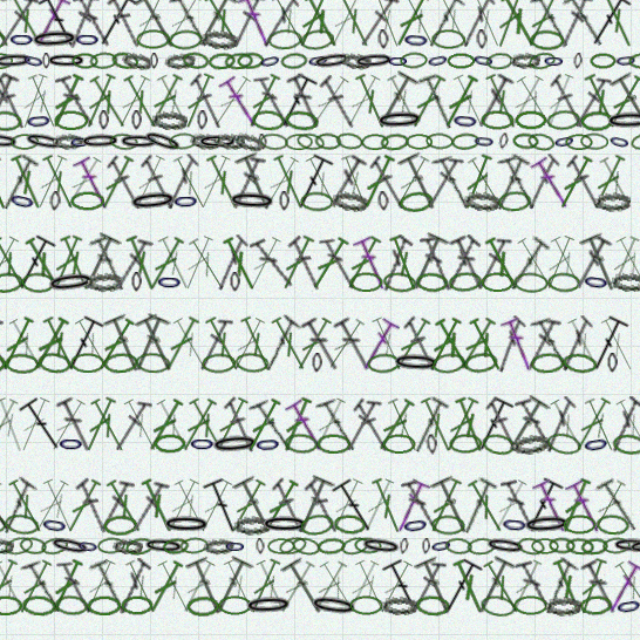chain: (75, 263, 118, 285), (299, 539, 342, 561), (145, 194, 188, 215), (156, 142, 193, 166), (215, 402, 258, 422), (61, 57, 104, 76), (481, 471, 524, 490), (356, 126, 398, 145), (230, 195, 272, 214), (370, 333, 412, 352), (244, 540, 286, 559), (552, 127, 594, 145), (55, 144, 92, 164), (77, 489, 114, 509), (501, 400, 533, 423), (472, 401, 505, 423), (174, 472, 216, 489), (258, 472, 300, 489), (445, 539, 477, 561), (318, 194, 351, 215), (571, 489, 607, 508), (446, 401, 476, 423), (67, 332, 98, 353), (431, 332, 462, 353), (39, 470, 70, 491), (291, 470, 322, 491), (302, 76, 338, 94), (343, 490, 379, 508), (449, 490, 485, 508), (291, 57, 322, 77), (515, 333, 546, 353), (17, 145, 53, 162), (207, 57, 239, 76), (431, 195, 463, 214), (109, 264, 141, 283), (278, 126, 308, 146), (376, 195, 406, 215), (26, 264, 56, 284), (362, 264, 392, 284), (404, 333, 434, 353), (558, 402, 588, 422), (151, 333, 182, 352), (337, 77, 373, 93), (12, 57, 42, 76), (264, 57, 294, 76), (250, 126, 280, 145), (502, 126, 532, 145), (460, 195, 490, 214), (418, 264, 448, 283), (124, 333, 154, 352), (236, 333, 266, 352), (488, 333, 518, 352), (278, 402, 308, 421), (54, 540, 84, 559), (82, 540, 112, 559), (390, 540, 420, 559), (30, 77, 65, 93), (234, 144, 262, 164), (158, 491, 193, 507), (543, 196, 574, 214), (235, 472, 266, 490), (501, 541, 532, 559), (320, 471, 349, 490), (544, 471, 573, 490), (530, 540, 559, 559), (583, 143, 609, 164), (42, 194, 68, 215), (474, 265, 504, 283), (165, 127, 196, 144), (557, 265, 588, 282), (361, 541, 392, 558), (104, 146, 139, 161), (558, 491, 593, 506), (180, 58, 209, 76), (488, 58, 517, 76), (26, 127, 55, 145), (292, 196, 321, 214), (54, 265, 83, 283), (390, 265, 419, 283), (40, 334, 69, 352), (208, 334, 237, 352), (124, 472, 153, 490), (404, 472, 433, 490), (139, 76, 167, 94), (531, 127, 559, 145), (503, 265, 531, 283), (349, 334, 377, 352), (195, 541, 223, 559), (532, 402, 557, 422), (70, 471, 95, 491), (378, 471, 403, 491), (560, 540, 585, 560), (573, 144, 599, 163), (39, 489, 65, 508), (273, 489, 299, 508), (326, 489, 352, 508), (152, 58, 181, 75), (404, 58, 433, 75), (82, 127, 111, 144), (446, 127, 475, 144), (96, 196, 125, 213), (334, 265, 363, 282), (446, 265, 475, 282), (96, 334, 125, 351), (306, 403, 335, 420), (362, 403, 391, 420), (12, 472, 41, 489), (516, 472, 545, 489), (26, 541, 55, 558), (110, 541, 139, 558), (222, 541, 251, 558), (334, 541, 363, 558), (474, 541, 503, 558), (75, 78, 110, 92), (137, 147, 172, 161), (204, 147, 239, 161), (475, 127, 503, 144), (13, 334, 41, 351), (167, 403, 195, 420), (419, 403, 447, 420), (139, 541, 167, 558), (532, 264, 557, 283), (288, 145, 314, 163), (142, 490, 168, 508), (284, 490, 310, 508), (476, 490, 502, 508), (586, 490, 612, 508), (463, 471, 487, 490), (486, 76, 511, 94), (485, 145, 510, 163), (70, 490, 95, 508), (379, 58, 403, 76), (176, 77, 203, 93), (326, 77, 353, 93), (57, 127, 81, 145), (421, 127, 445, 145), (209, 491, 236, 507), (130, 76, 155, 93), (253, 403, 276, 421), (191, 76, 215, 93), (322, 145, 346, 162), (52, 490, 76, 507), (227, 77, 252, 93), (129, 146, 154, 162), (257, 146, 282, 162), (360, 146, 385, 162), (306, 491, 331, 507), (434, 491, 459, 507), (518, 491, 543, 507), (43, 58, 66, 75), (99, 58, 122, 75), (183, 196, 206, 213), (169, 265, 192, 282), (85, 403, 108, 420), (197, 403, 220, 420), (471, 77, 497, 92), (81, 146, 107, 161), (198, 146, 224, 161), (219, 146, 245, 161), (213, 77, 237, 93), (275, 77, 299, 93), (450, 77, 474, 93), (174, 491, 198, 507), (415, 491, 439, 507), (531, 491, 555, 507), (54, 76, 75, 94), (256, 76, 277, 94), (554, 145, 575, 163), (112, 77, 137, 92), (189, 491, 214, 506), (22, 492, 48, 506), (132, 492, 158, 506), (377, 77, 401, 92), (180, 146, 204, 161), (304, 146, 328, 161), (399, 146, 423, 161), (421, 146, 445, 161), (531, 146, 555, 161), (119, 491, 143, 506), (338, 491, 362, 506), (550, 491, 574, 506), (297, 76, 318, 93), (399, 76, 420, 93), (438, 76, 459, 93), (507, 145, 528, 162), (402, 490, 423, 507), (238, 77, 261, 92), (473, 146, 496, 161), (504, 491, 527, 506), (23, 78, 47, 92), (417, 78, 441, 92), (572, 78, 596, 92), (45, 147, 69, 161), (279, 147, 303, 161), (344, 147, 368, 161), (518, 147, 542, 161), (264, 492, 288, 506), (489, 492, 513, 506), (97, 78, 120, 92), (539, 78, 562, 92), (382, 147, 405, 161), (101, 491, 121, 507), (560, 77, 580, 92), (439, 146, 459, 161), (366, 78, 385, 92), (499, 78, 518, 92), (95, 147, 114, 161), (227, 492, 246, 506), (399, 403, 410, 421), (358, 58, 368, 75), (442, 58, 452, 75), (78, 196, 88, 213), (358, 196, 368, 213), (120, 127, 129, 144), (148, 127, 157, 144), (204, 127, 213, 144), (274, 196, 283, 213), (148, 265, 157, 282), (232, 265, 241, 282), (302, 334, 311, 351), (554, 334, 563, 351), (461, 146, 470, 161), (376, 492, 385, 506), (525, 78, 533, 92), (256, 147, 264, 161), (254, 492, 262, 506), (72, 78, 79, 92), (164, 78, 171, 92), (396, 492, 403, 506)
double: (463, 370, 506, 422), (9, 439, 52, 491), (275, 508, 318, 560), (198, 24, 240, 77), (352, 93, 394, 146), (51, 370, 94, 421), (150, 25, 192, 77), (534, 25, 576, 77), (556, 94, 598, 146), (318, 439, 360, 491), (234, 438, 275, 491), (114, 25, 155, 77), (375, 162, 415, 215), (213, 507, 253, 560), (437, 507, 477, 560), (464, 233, 506, 283), (67, 25, 107, 77), (45, 232, 85, 284), (409, 508, 449, 560), (101, 231, 140, 284), (381, 231, 420, 284), (151, 300, 190, 353), (403, 438, 442, 491), (389, 507, 428, 560), (296, 95, 337, 145), (310, 302, 351, 352), (248, 371, 289, 421), (543, 439, 583, 490), (53, 508, 93, 559), (269, 94, 308, 146), (283, 163, 322, 215), (87, 301, 126, 353), (535, 301, 574, 353), (437, 370, 476, 422), (479, 439, 518, 491), (361, 508, 400, 560), (4, 24, 42, 77), (236, 162, 274, 215), (530, 231, 568, 284), (124, 300, 162, 353), (144, 300, 182, 353), (284, 438, 322, 491), (194, 507, 232, 560), (109, 95, 149, 145), (473, 95, 513, 145), (193, 233, 233, 283), (353, 371, 393, 421), (395, 25, 434, 76), (515, 25, 554, 76), (31, 163, 70, 214), (305, 370, 344, 421), (213, 95, 253, 144), (207, 26, 246, 76), (221, 95, 260, 145), (87, 164, 126, 214), (431, 164, 470, 214), (487, 164, 526, 214), (297, 233, 336, 283), (115, 302, 154, 352), (423, 302, 462, 352), (157, 371, 196, 421), (123, 440, 162, 490), (297, 509, 336, 559), (305, 509, 344, 559), (445, 509, 484, 559), (557, 509, 596, 559), (40, 25, 78, 76), (180, 25, 218, 76), (264, 25, 302, 76), (460, 25, 498, 76), (488, 25, 526, 76), (326, 94, 364, 145), (368, 163, 406, 214), (18, 232, 56, 283), (326, 232, 364, 283), (60, 301, 98, 352), (180, 301, 218, 352), (256, 301, 294, 352), (264, 301, 302, 352), (488, 301, 526, 352), (194, 370, 232, 421), (382, 370, 420, 421), (522, 370, 560, 421), (32, 439, 69, 491), (208, 439, 245, 491), (172, 26, 210, 76), (550, 95, 588, 145), (256, 164, 294, 214), (312, 164, 350, 214), (54, 233, 92, 283), (158, 233, 196, 283), (474, 233, 512, 283), (40, 302, 78, 352), (96, 302, 134, 352), (284, 302, 322, 352), (292, 302, 330, 352), (340, 302, 378, 352), (368, 302, 406, 352), (404, 302, 442, 352), (74, 371, 112, 421), (186, 371, 224, 421), (278, 371, 316, 421), (60, 440, 98, 490), (256, 440, 294, 490), (432, 440, 470, 490), (270, 509, 308, 559), (312, 25, 349, 76), (368, 25, 405, 76), (376, 25, 413, 76), (158, 94, 195, 145), (166, 94, 203, 145), (362, 94, 399, 145), (180, 163, 217, 214), (404, 163, 441, 214), (452, 163, 489, 214), (460, 163, 497, 214), (502, 232, 539, 283), (558, 232, 595, 283), (12, 301, 49, 352), (172, 301, 209, 352), (208, 301, 245, 352), (214, 370, 251, 421), (424, 439, 461, 490), (494, 508, 531, 559), (249, 234, 288, 282), (111, 508, 147, 560), (12, 26, 49, 76), (292, 26, 329, 76), (138, 95, 175, 145), (382, 95, 419, 145), (410, 95, 447, 145), (466, 95, 503, 145), (508, 164, 545, 214), (544, 164, 581, 214), (26, 233, 63, 283), (522, 233, 559, 283), (320, 302, 357, 352), (110, 371, 147, 421), (138, 371, 175, 421), (166, 371, 203, 421), (242, 371, 279, 421), (502, 371, 539, 421), (558, 371, 595, 421), (40, 440, 77, 490), (88, 440, 125, 490), (228, 440, 265, 490), (452, 440, 489, 490), (536, 440, 573, 490), (158, 509, 195, 559), (186, 509, 223, 559), (354, 509, 391, 559), (550, 509, 587, 559), (405, 25, 441, 76), (75, 94, 111, 145), (419, 94, 455, 145), (531, 94, 567, 145), (167, 232, 203, 283), (271, 232, 307, 283), (69, 301, 105, 352), (83, 370, 119, 421), (411, 370, 447, 421), (173, 439, 209, 490), (313, 439, 349, 490), (397, 439, 433, 490), (139, 508, 175, 559), (335, 508, 371, 559), (391, 94, 426, 146), (111, 232, 146, 284), (61, 26, 97, 76), (131, 95, 167, 145), (439, 95, 475, 145), (97, 164, 133, 214), (117, 164, 153, 214), (293, 164, 329, 214), (223, 233, 259, 283), (243, 233, 279, 283), (447, 233, 483, 283), (229, 302, 265, 352), (397, 302, 433, 352), (433, 302, 469, 352), (517, 302, 553, 352), (545, 302, 581, 352), (19, 371, 55, 421), (5, 440, 41, 490), (181, 440, 217, 490), (201, 440, 237, 490), (517, 440, 553, 490), (27, 509, 63, 559), (47, 509, 83, 559), (167, 509, 203, 559), (327, 509, 363, 559), (531, 509, 567, 559), (145, 25, 180, 76), (321, 25, 356, 76), (481, 25, 516, 76), (243, 94, 278, 145), (447, 94, 482, 145), (5, 163, 40, 214), (69, 163, 104, 214), (145, 163, 180, 214), (201, 163, 236, 214), (209, 163, 244, 214), (341, 163, 376, 214), (537, 163, 572, 214), (419, 232, 454, 283), (33, 301, 68, 352), (299, 370, 334, 421), (363, 370, 398, 421), (531, 370, 566, 421), (69, 439, 104, 490), (153, 439, 188, 490), (341, 439, 376, 490), (369, 439, 404, 490), (489, 439, 524, 490), (19, 508, 54, 559), (75, 508, 110, 559), (103, 508, 138, 559), (223, 508, 258, 559), (251, 508, 286, 559), (419, 508, 454, 559), (467, 508, 502, 559), (256, 27, 293, 75), (340, 27, 377, 75), (411, 233, 447, 282), (286, 25, 320, 76), (434, 25, 468, 76), (546, 25, 580, 76), (104, 94, 138, 145), (188, 94, 222, 145), (280, 94, 314, 145), (336, 94, 370, 145), (42, 163, 76, 214), (62, 163, 96, 214), (266, 163, 300, 214), (140, 232, 174, 283), (336, 232, 370, 283), (496, 232, 530, 283), (238, 301, 272, 352), (350, 301, 384, 352), (48, 370, 82, 421), (104, 370, 138, 421), (392, 370, 426, 421), (244, 508, 278, 559), (33, 27, 69, 75), (349, 165, 385, 213), (131, 234, 167, 282), (335, 372, 371, 420), (145, 441, 181, 489), (83, 95, 118, 144), (503, 95, 538, 144), (397, 164, 432, 213), (517, 164, 552, 213), (475, 371, 510, 420), (551, 371, 586, 420), (131, 509, 166, 558), (98, 26, 132, 76), (378, 440, 412, 490), (238, 25, 271, 76), (350, 25, 383, 76), (20, 94, 53, 145), (56, 94, 89, 145), (14, 163, 47, 214), (76, 232, 109, 283), (84, 232, 117, 283), (188, 232, 221, 283), (552, 232, 585, 283), (462, 301, 495, 352), (272, 370, 305, 421), (350, 439, 383, 490), (510, 439, 543, 490), (504, 508, 537, 559), (307, 96, 342, 144), (523, 96, 558, 144), (125, 165, 160, 213), (131, 372, 166, 420), (426, 26, 460, 75), (252, 95, 286, 144), (154, 164, 188, 213), (308, 233, 342, 282), (378, 302, 412, 351), (328, 371, 362, 420), (448, 371, 482, 420), (294, 440, 328, 489), (356, 233, 389, 283), (476, 509, 509, 559), (497, 94, 529, 145), (323, 163, 355, 214), (427, 163, 459, 214), (365, 232, 397, 283), (29, 370, 61, 421), (421, 370, 453, 421), (525, 508, 557, 559), (126, 26, 159, 75), (196, 95, 229, 144), (174, 164, 207, 213), (482, 164, 515, 213), (280, 233, 313, 282), (440, 233, 473, 282), (482, 302, 515, 351), (118, 440, 151, 489), (266, 440, 299, 489), (84, 509, 117, 558), (384, 509, 417, 558), (231, 26, 263, 76), (463, 440, 495, 490), (455, 25, 486, 76), (49, 94, 80, 145), (29, 95, 61, 144), (231, 164, 263, 213), (217, 233, 249, 282), (7, 302, 39, 351), (203, 302, 235, 351), (511, 302, 543, 351), (225, 371, 257, 420), (497, 371, 529, 420), (99, 440, 131, 489), (511, 26, 542, 76), (456, 302, 486, 352), (92, 26, 121, 76), (394, 233, 423, 283)
